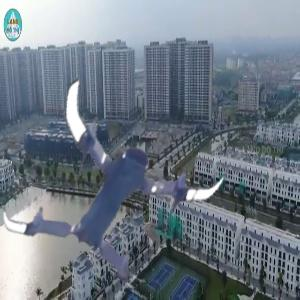drone: (17, 77, 225, 285)
